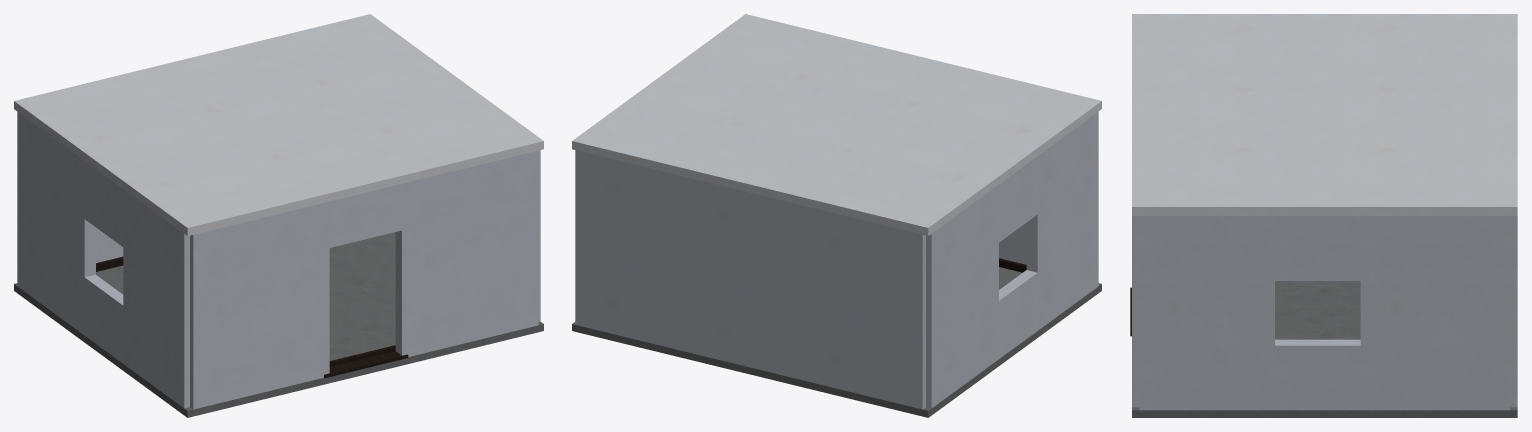
File: int_future_dome_01.glb
3 views of the same model, side by side, from view 1: azimuth 30°, elevation 25°; view 2: azimuth 150°, elevation 25°; view 3: azimuth 270°, elevation 25° (orthographic). The views are drawn at different scales.
Visible parts, largest first — view 1: int_future_dome_01; view 2: int_future_dome_01; view 3: int_future_dome_01.
Boxes of the visible parts, <box> form: int_future_dome_01: <box>14,14,543,417</box>; int_future_dome_01: <box>572,14,1101,417</box>; int_future_dome_01: <box>1130,14,1517,417</box>.
Size of the model in its own units: 6.4 by 3.26 by 5.42.
6 materials, 6 textured.
